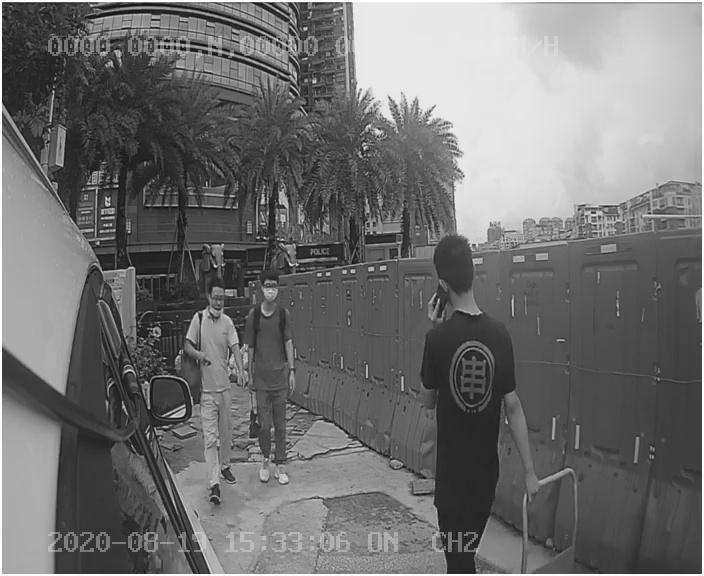person: (240, 270, 326, 491), (180, 280, 251, 501)
